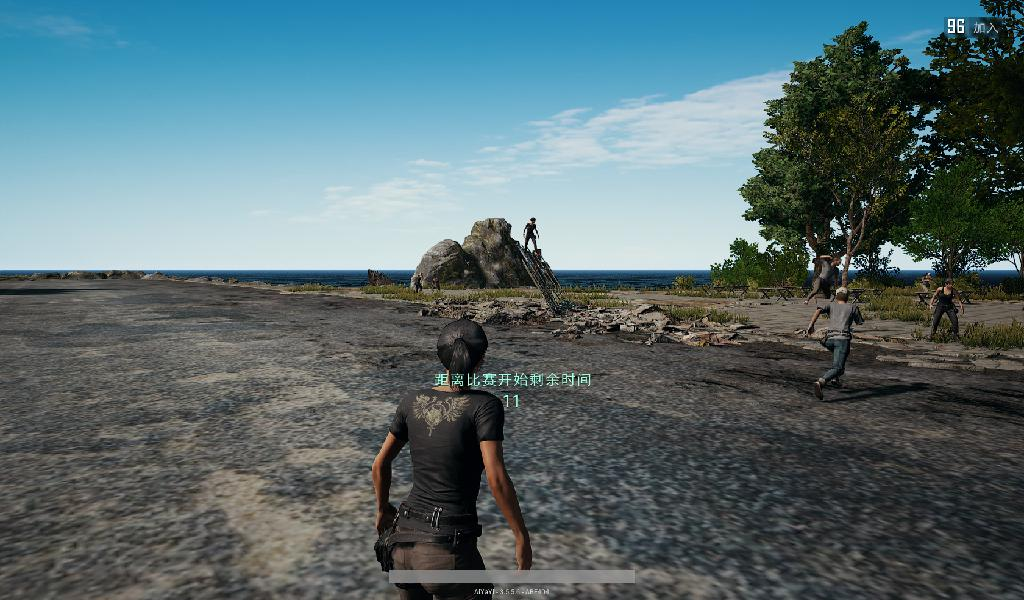Target Person: (369, 319, 534, 600), (808, 286, 865, 400), (803, 254, 847, 308), (928, 278, 963, 342), (521, 215, 540, 261), (919, 270, 934, 300), (409, 271, 424, 296), (430, 272, 441, 304)
